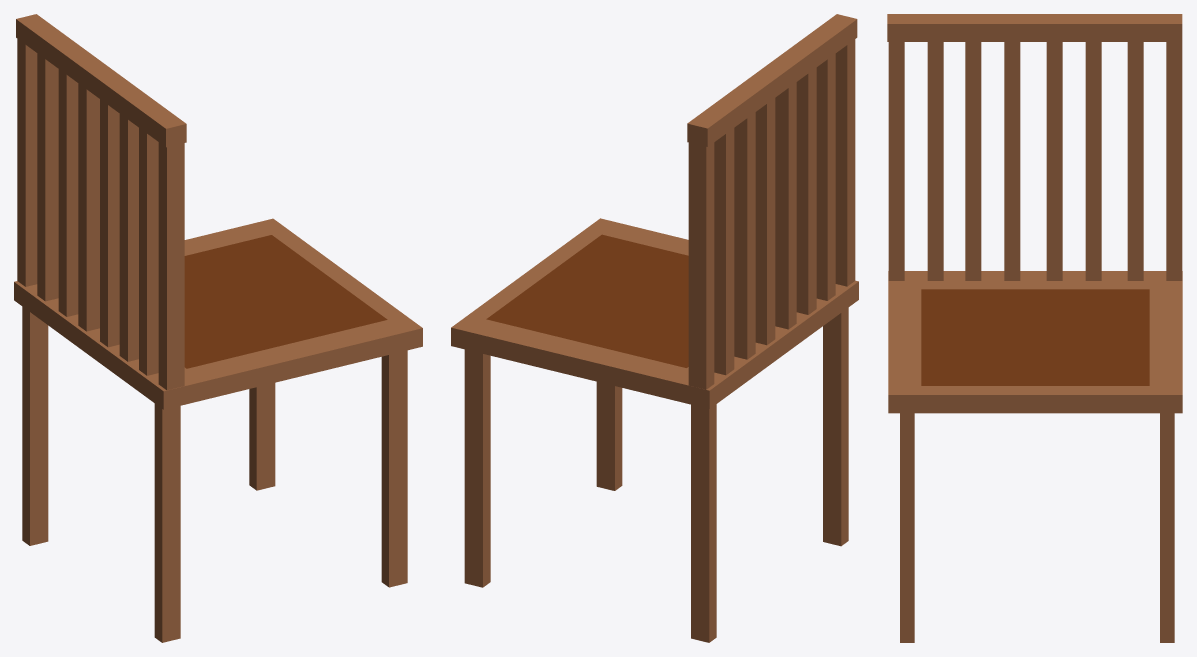
File: Chair_model.glb
3 renders of one model, left to right at view 1: azimuth 30°, elevation 25°; view 2: azimuth 150°, elevation 25°; view 3: azimuth 270°, elevation 25°, orthographic.
Visible parts, largest first — view 1: Plane, Cube.005, Cube.004, Cube.003, Cube.013, Cube, Cube.002, Cube.012, Cube.009, Cube.010, Cube.011, Cube.008 (+3 smaller); view 2: Plane, Cube.005, Cube.011, Cube.001, Cube.013, Cube.002, Cube.003, Cube.010, Cube.007, Cube.004, Cube.009, Cube.012 (+3 smaller); view 3: Plane, Cube.005, Cube.013, Cube.004, Cube.006, Cube.008, Cube.007, Cube.010, Cube.009, Cube.012, Cube.011, Cube (+1 smaller).
Part boxes in pixels (x1,y1,x2,y2): Plane: [184, 235, 387, 368]; Cube.005: [14, 218, 422, 409]; Cube.004: [158, 142, 184, 390]; Cube.003: [154, 403, 180, 642]; Cube.013: [16, 14, 186, 147]; Cube: [381, 350, 407, 587]; Cube.002: [22, 306, 48, 545]; Cube.012: [37, 53, 58, 301]; Cube.009: [78, 83, 99, 331]; Cube.010: [58, 69, 78, 316]; Cube.011: [17, 39, 37, 286]; Cube.008: [119, 114, 138, 361]; Plane: [486, 234, 688, 367]; Cube.005: [451, 218, 858, 408]; Cube.011: [688, 142, 714, 389]; Cube.001: [464, 349, 490, 587]; Cube.013: [687, 14, 857, 146]; Cube.002: [691, 404, 716, 642]; Cube.003: [823, 307, 848, 546]; Cube.010: [734, 112, 755, 359]; Cube.007: [775, 82, 796, 329]; Cube.004: [835, 39, 855, 286]; Cube.009: [755, 98, 775, 345]; Cube.012: [714, 128, 734, 375]; Plane: [921, 289, 1149, 385]; Cube.005: [888, 271, 1182, 413]; Cube.013: [887, 14, 1182, 41]; Cube.004: [888, 42, 904, 280]; Cube.006: [927, 42, 943, 280]; Cube.008: [965, 42, 981, 280]; Cube.007: [1004, 42, 1020, 280]; Cube.010: [1085, 42, 1101, 280]; Cube.009: [1046, 42, 1062, 280]; Cube.012: [1127, 42, 1143, 280]; Cube.011: [1166, 42, 1182, 280]; Cube: [900, 413, 914, 642].
Bounding box in the file's own units: 2.28 × 4.37 × 2.29.
